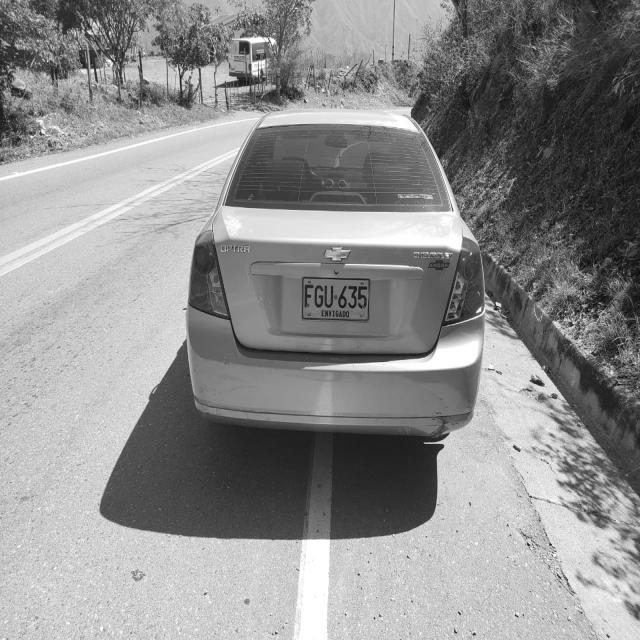plate: (302, 272, 372, 324)
